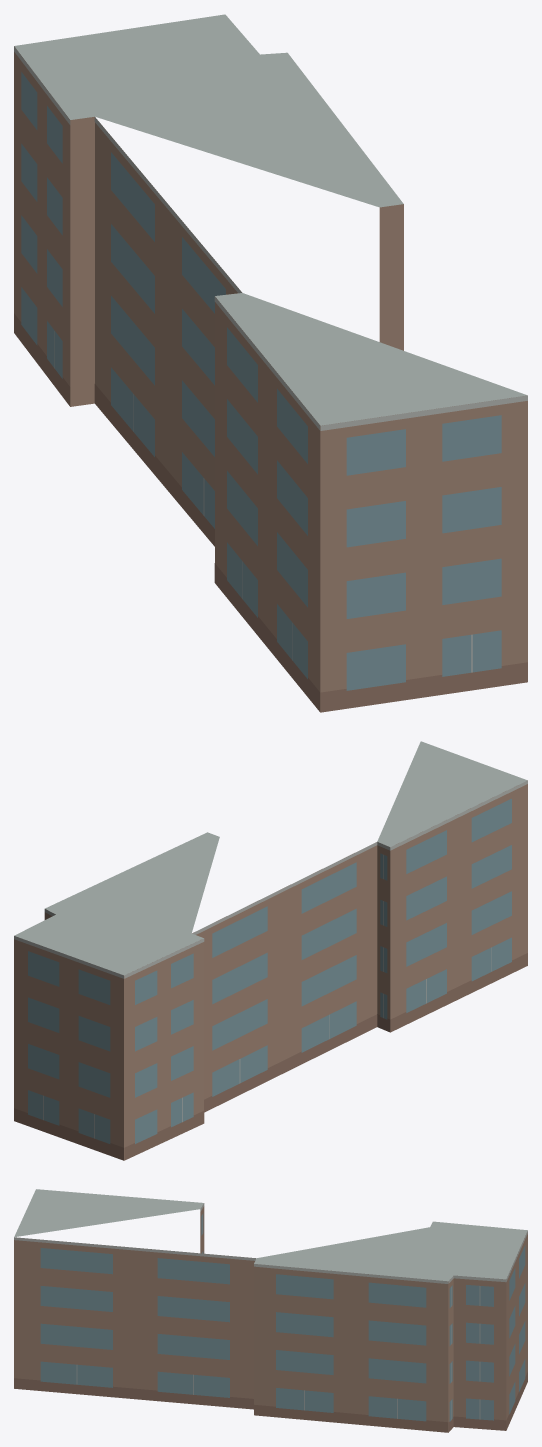
Rendered from survey-upis-32953873.glb.
The picture shows the model from 3 angles, top to bottom: view 1: azimuth 30°, elevation 25°; view 2: azimuth 150°, elevation 25°; view 3: azimuth 270°, elevation 25°; orthographic projection. The views are drawn at different scales.
Parts seen in each view (by area): view 1: survey-upis-32953873.tmp; view 2: survey-upis-32953873.tmp; view 3: survey-upis-32953873.tmp.
Boxes of the visible parts, box(x1,y1,x2,y2) form: survey-upis-32953873.tmp: box(14, 14, 527, 712); survey-upis-32953873.tmp: box(14, 741, 527, 1160); survey-upis-32953873.tmp: box(14, 1189, 527, 1432).
Size of the model in its own units: 16.97 by 13 by 39.97.
